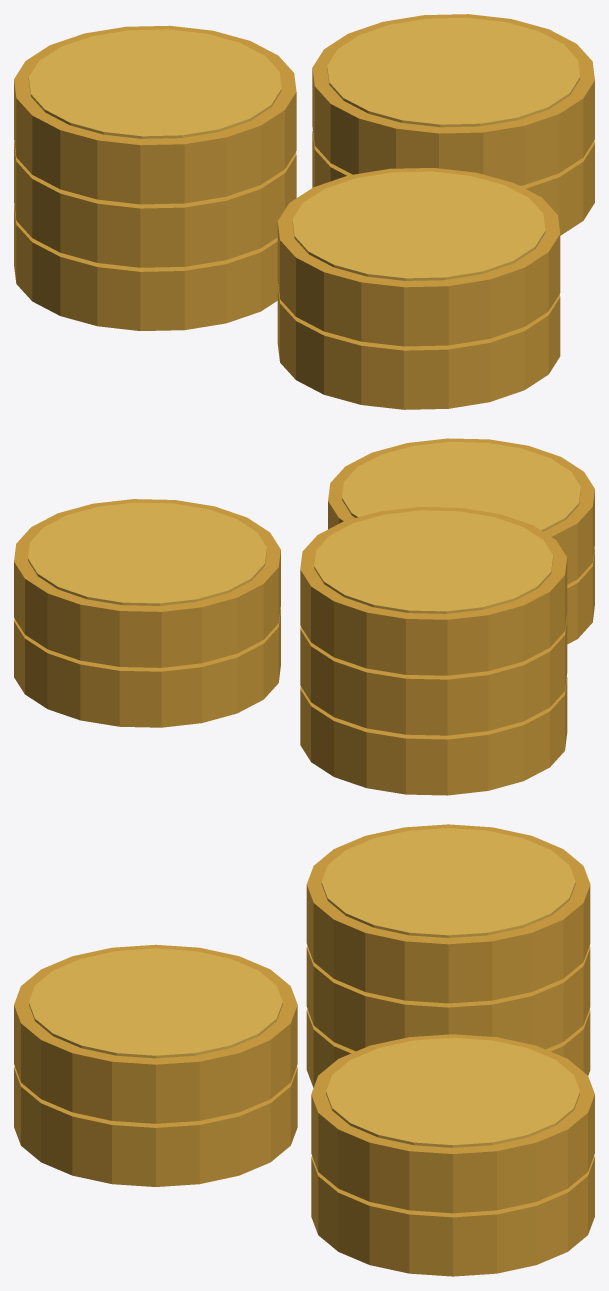
Rendered from coins.glb.
3 views of the same model, one above another, from view 1: azimuth 30°, elevation 25°; view 2: azimuth 150°, elevation 25°; view 3: azimuth 270°, elevation 25° (orthographic). The views are drawn at different scales.
Visible parts, largest first — view 1: coins; view 2: coins; view 3: coins.
Part boxes in pixels (left/top/right/bottom): coins: left=14, top=14, right=594, bottom=409; coins: left=14, top=438, right=594, bottom=795; coins: left=14, top=824, right=594, bottom=1276.
Bounding box in the file's own units: 1.4 × 0.4615 × 1.29.
